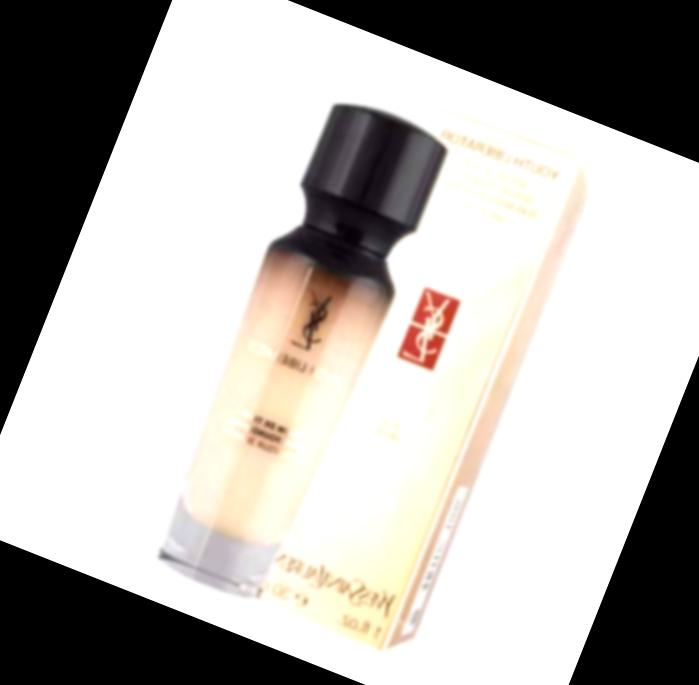cosmetic: (142, 97, 454, 610)
